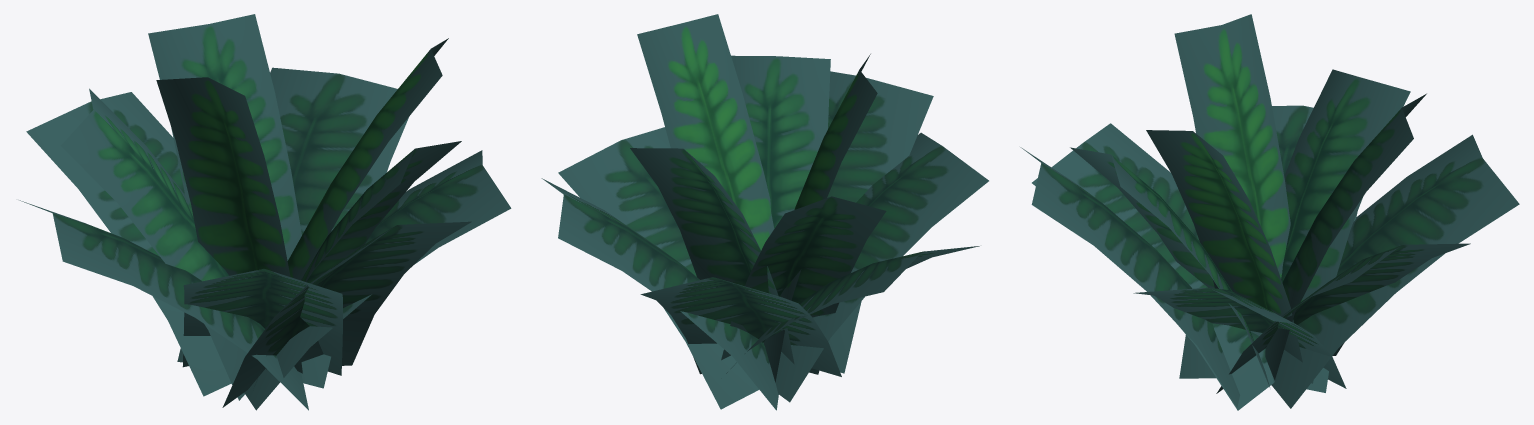
File: OBJ_Foliage_Fern_2.fbx
3 renders of one model, left to right at view 1: azimuth 30°, elevation 25°; view 2: azimuth 150°, elevation 25°; view 3: azimuth 270°, elevation 25°, orthographic. The views are drawn at different scales.
Visible parts, largest first — view 1: tall_fern2; view 2: tall_fern2; view 3: tall_fern2.
Part boxes in pixels (x1=…): tall_fern2: x1=19, y1=14, x2=511, y2=410; tall_fern2: x1=541, y1=14, x2=988, y2=410; tall_fern2: x1=1020, y1=14, x2=1519, y2=410.
Size of the model in its own units: 1.18 by 0.8809 by 1.23.
